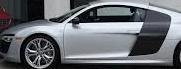Cars: (1, 3, 181, 69)
